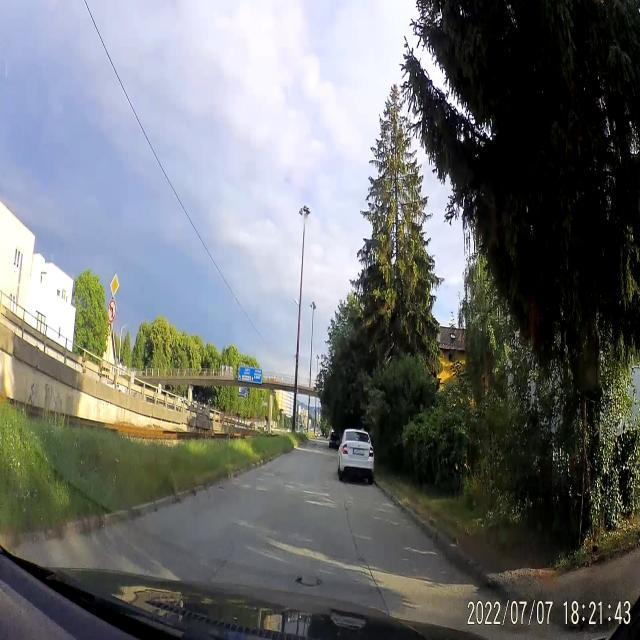Pothole: (294, 567, 328, 592), (216, 484, 226, 492)
